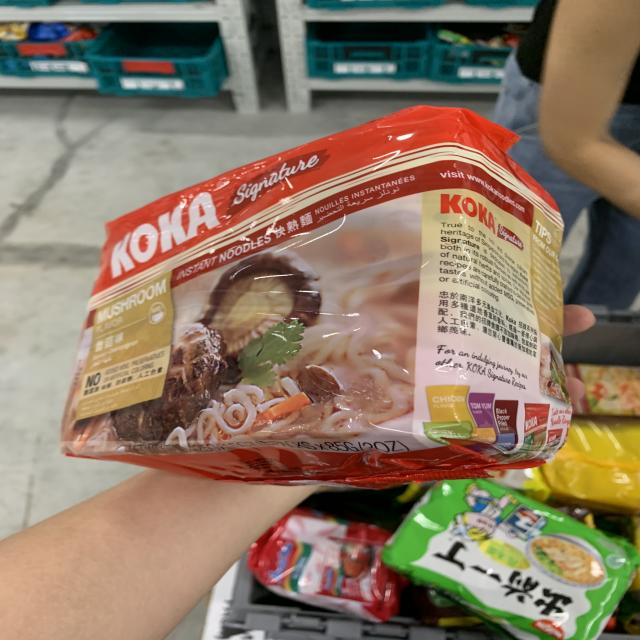object_name: (94, 167, 542, 468)
